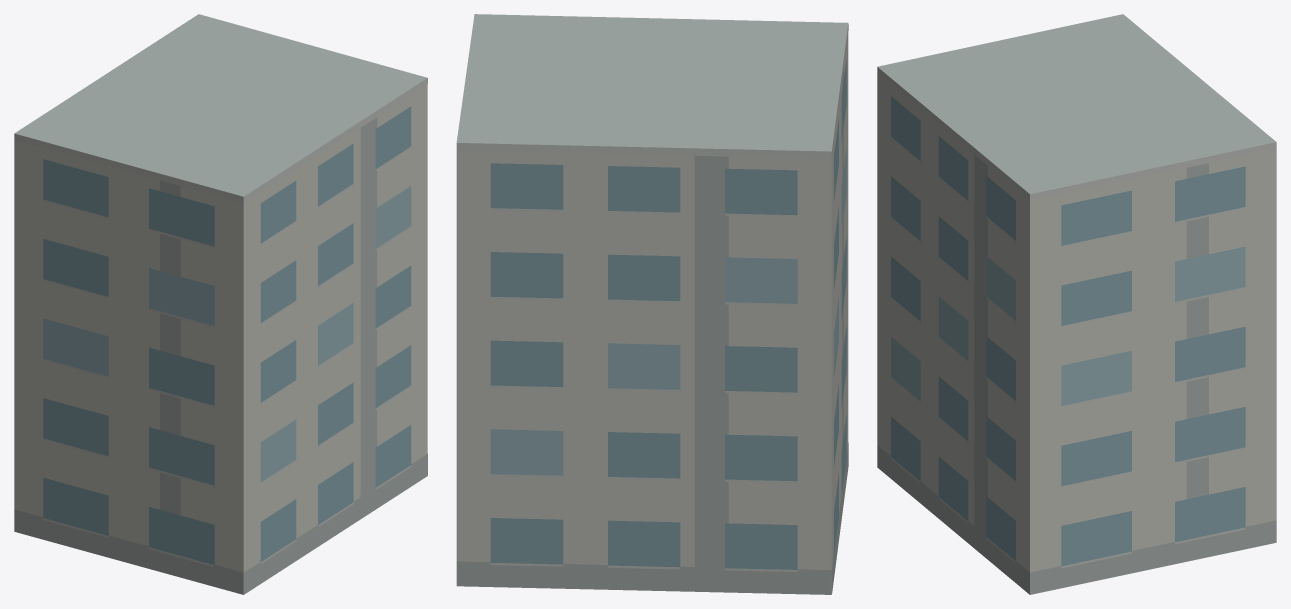
File: survey-upis-32837577.glb
3 views of the same model, side by side, from view 1: azimuth 30°, elevation 25°; view 2: azimuth 150°, elevation 25°; view 3: azimuth 270°, elevation 25° (orthographic). The views are drawn at different scales.
Parts seen in each view (by area): view 1: survey-upis-32837577.tmp; view 2: survey-upis-32837577.tmp; view 3: survey-upis-32837577.tmp.
Part boxes in pixels (bbox=[...]): survey-upis-32837577.tmp: bbox=[14, 14, 427, 594]; survey-upis-32837577.tmp: bbox=[456, 14, 848, 594]; survey-upis-32837577.tmp: bbox=[877, 14, 1276, 594].
Bounding box in the file's own units: 13.98 × 14.48 × 13.09.
